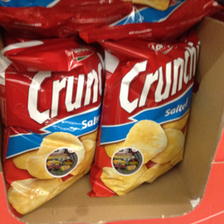chips: (1, 43, 101, 214), (94, 43, 198, 197)
